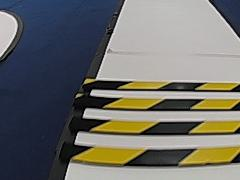bump: (69, 70, 239, 165), (64, 116, 239, 168)
